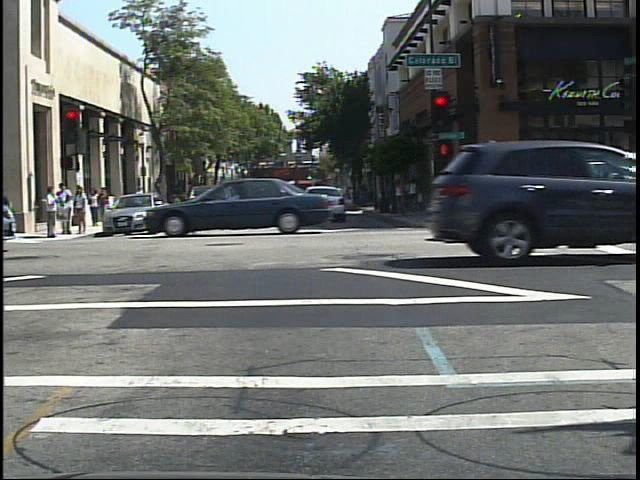person: (88, 188, 102, 229), (168, 182, 184, 216), (132, 184, 147, 218)
